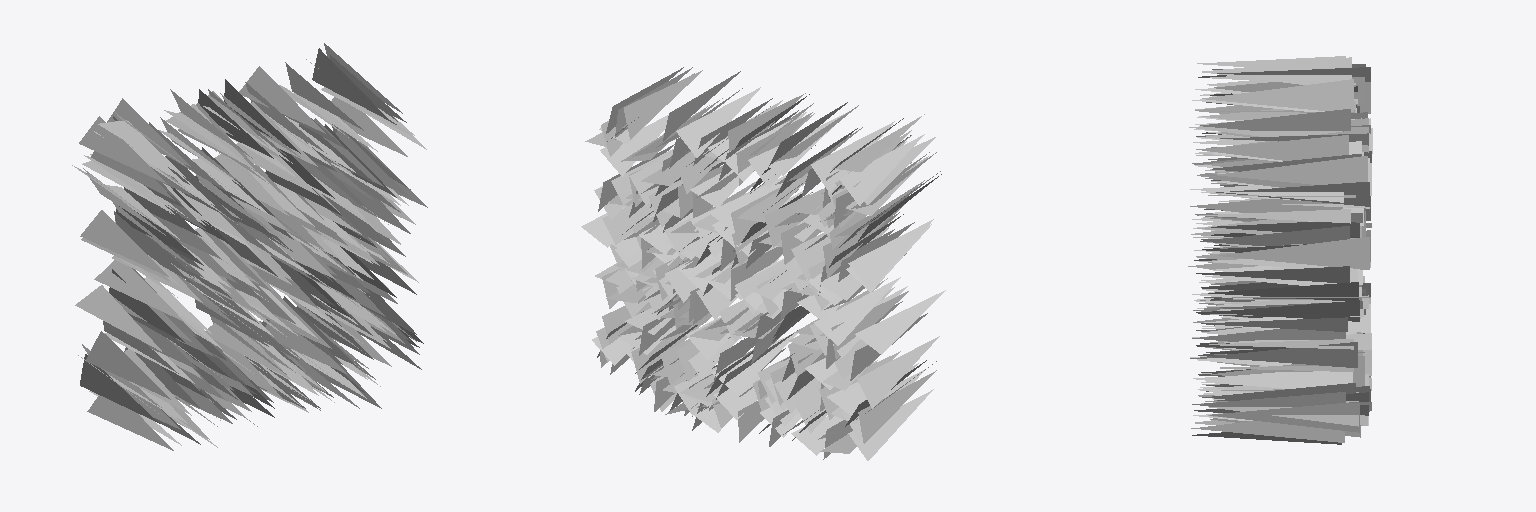
File: grass_patch_rot.obj
The picture shows the model from 3 angles: view 1: azimuth 30°, elevation 25°; view 2: azimuth 150°, elevation 25°; view 3: azimuth 270°, elevation 25°; orthographic projection.
Parts seen in each view (by area): view 1: Blade.013_Plane.013, Blade.187_Plane.187, Blade.037_Plane.037, Blade.139_Plane.139, Blade.193_Plane.193, Blade.154_Plane.154, Blade.152_Plane.152, Blade.229_Plane.229, Blade.284_Plane.284, Blade.274_Plane.274, Blade.190_Plane.190, Blade.047_Plane.047 (+28 smaller); view 2: Blade.013_Plane.013, Blade.187_Plane.187, Blade.037_Plane.037, Blade.139_Plane.139, Blade.193_Plane.193, Blade.154_Plane.154, Blade.152_Plane.152, Blade.284_Plane.284, Blade.279_Plane.279, Blade.229_Plane.229, Blade.274_Plane.274, Blade.190_Plane.190 (+28 smaller); view 3: Blade.195_Plane.195, Blade.055_Plane.055, Blade.126_Plane.126, Blade.043_Plane.043, Blade.281_Plane.281, Blade.058_Plane.058, Blade.038_Plane.038, Blade.225_Plane.225, Blade.144_Plane.144, Blade.224_Plane.224, Blade.259_Plane.259, Blade.150_Plane.150 (+23 smaller).
Part boxes in pixels (x1,y1,x2,y2): Blade.013_Plane.013: (80, 210, 168, 276); Blade.187_Plane.187: (86, 331, 170, 399); Blade.037_Plane.037: (79, 116, 166, 183); Blade.139_Plane.139: (75, 285, 161, 351); Blade.193_Plane.193: (94, 260, 183, 321); Blade.154_Plane.154: (239, 66, 325, 133); Blade.152_Plane.152: (312, 48, 390, 121); Blade.229_Plane.229: (87, 395, 173, 450); Blade.284_Plane.284: (80, 354, 159, 423); Blade.274_Plane.274: (331, 97, 407, 156); Blade.190_Plane.190: (205, 323, 290, 379); Blade.047_Plane.047: (265, 321, 346, 373); Blade.013_Plane.013: (848, 219, 933, 289); Blade.187_Plane.187: (857, 336, 939, 408); Blade.037_Plane.037: (839, 134, 924, 205); Blade.139_Plane.139: (855, 290, 945, 354); Blade.193_Plane.193: (814, 277, 900, 345); Blade.154_Plane.154: (676, 87, 760, 157); Blade.152_Plane.152: (624, 70, 702, 139); Blade.284_Plane.284: (858, 370, 936, 443); Blade.279_Plane.279: (811, 121, 894, 192); Blade.229_Plane.229: (848, 389, 933, 460); Blade.274_Plane.274: (600, 115, 668, 176); Blade.190_Plane.190: (711, 333, 797, 394); Blade.195_Plane.195: (1202, 79, 1353, 111); Blade.055_Plane.055: (1218, 237, 1369, 269); Blade.126_Plane.126: (1218, 156, 1367, 184); Blade.043_Plane.043: (1196, 135, 1348, 160); Blade.281_Plane.281: (1200, 109, 1350, 131); Blade.058_Plane.058: (1207, 342, 1357, 367); Blade.038_Plane.038: (1210, 402, 1359, 432); Blade.225_Plane.225: (1202, 57, 1351, 84); Blade.144_Plane.144: (1191, 421, 1344, 442); Blade.224_Plane.224: (1206, 300, 1359, 321); Blade.259_Plane.259: (1201, 371, 1352, 388); Blade.150_Plane.150: (1200, 226, 1349, 246).
Bounding box in the file's own units: 1.1 × 1.1 × 0.599.